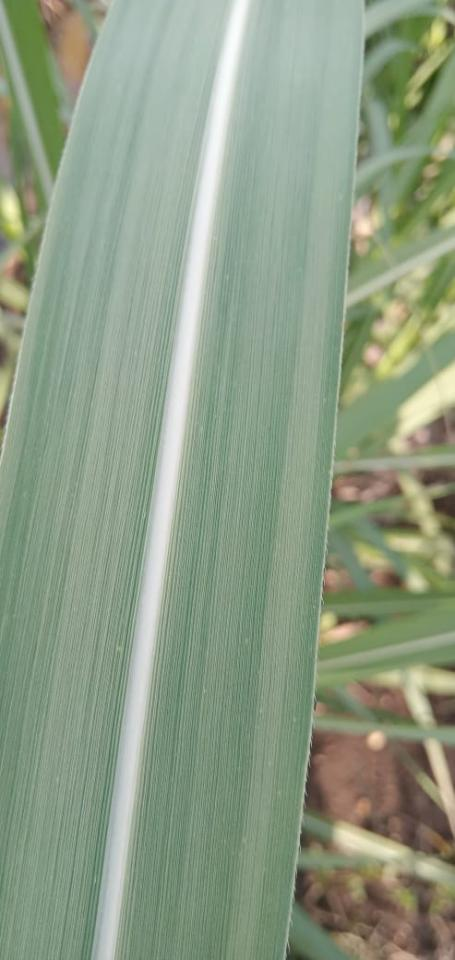Healthy: (0, 0, 362, 959)
